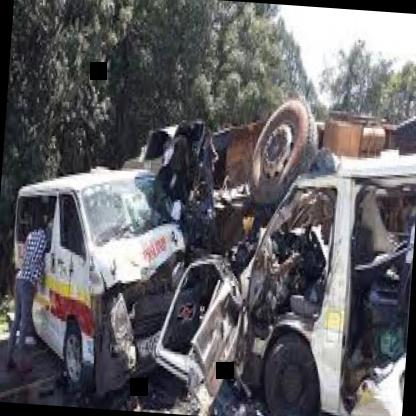accident: (37, 83, 416, 416)
